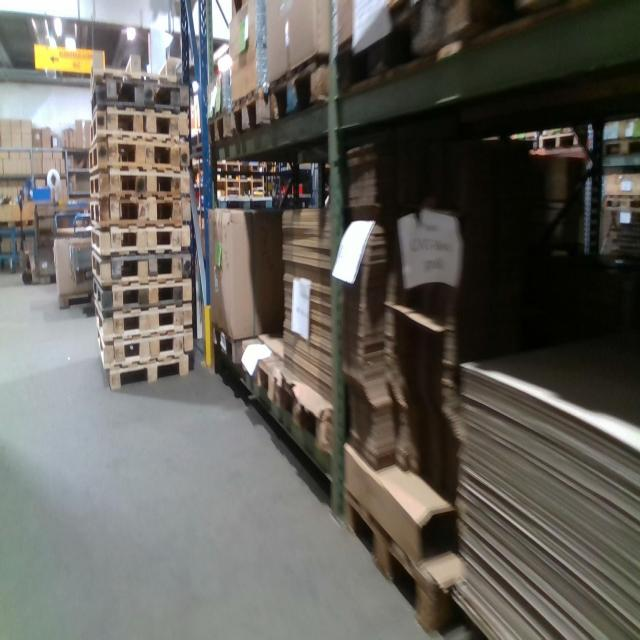pallet: (342, 478, 467, 634), (271, 52, 337, 141), (275, 371, 336, 454), (240, 332, 284, 409), (98, 330, 182, 369), (88, 139, 181, 174), (108, 354, 187, 395), (92, 278, 183, 310), (93, 110, 181, 143), (87, 197, 183, 227), (90, 225, 185, 254), (231, 81, 270, 151), (91, 82, 184, 111), (88, 170, 184, 197), (91, 256, 184, 282), (96, 308, 185, 335), (207, 313, 247, 372), (93, 57, 177, 79), (536, 129, 584, 158), (602, 132, 639, 163), (208, 105, 228, 157), (601, 192, 639, 217)
pallet_truck: (13, 182, 41, 293)
stillage: (33, 197, 71, 288)
